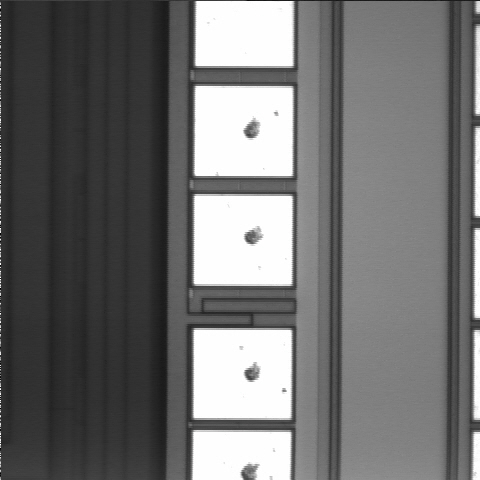pad: (194, 194, 292, 286), (195, 86, 293, 176), (194, 330, 292, 420)
